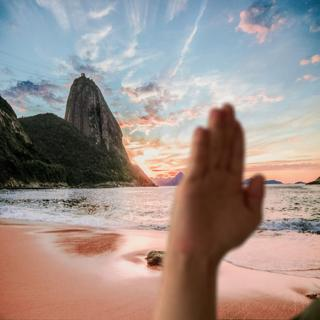RIGHT: (166, 96, 269, 280)
